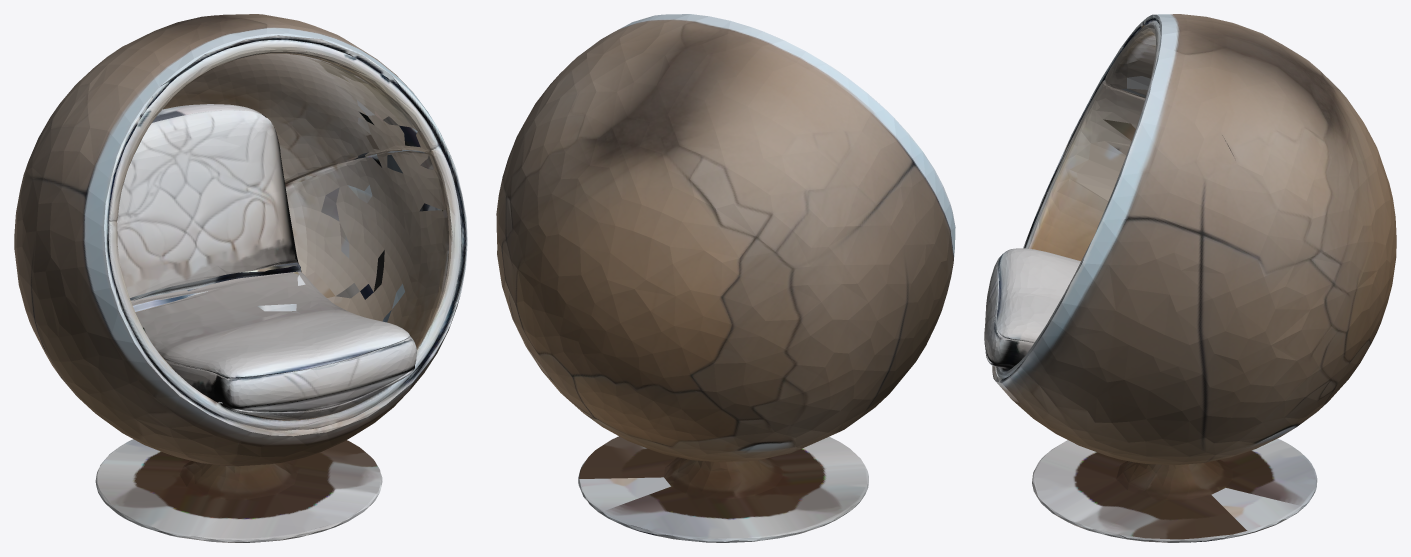
File: edited_mesh.glb
The picture shows the model from 3 angles, left to right: view 1: azimuth 30°, elevation 25°; view 2: azimuth 150°, elevation 25°; view 3: azimuth 270°, elevation 25°; orthographic projection.
Parts seen in each view (by area): view 1: solid_001_wire; view 2: solid_001_wire; view 3: solid_001_wire.
Boxes of the visible parts, bbox=[...] form: solid_001_wire: bbox=[14, 14, 467, 542]; solid_001_wire: bbox=[496, 14, 955, 542]; solid_001_wire: bbox=[984, 14, 1396, 542].
Size of the model in its own units: 1.25 by 1.37 by 1.15.
1 material, 1 textured.
